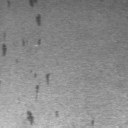red iron: (27, 112, 34, 126), (28, 0, 37, 8), (36, 14, 42, 26), (2, 43, 7, 56), (46, 74, 50, 84), (35, 85, 39, 94), (37, 38, 41, 45), (22, 40, 26, 46), (92, 120, 94, 125)
